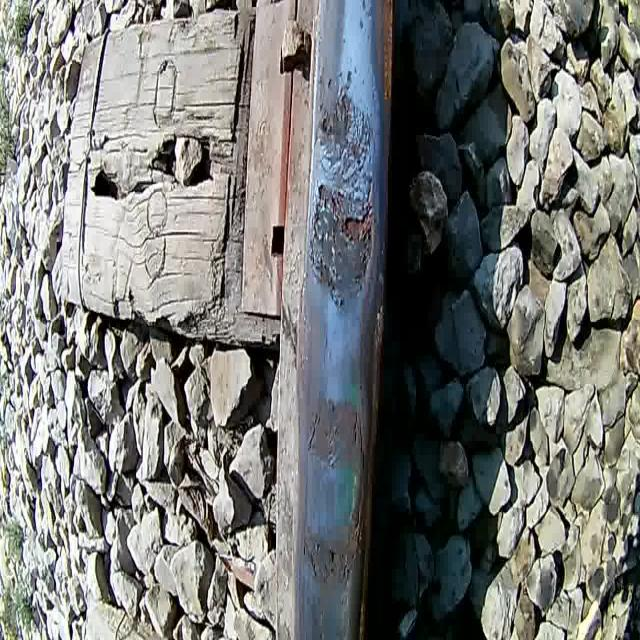Cracks: (338, 398, 367, 592), (334, 100, 375, 189), (305, 404, 324, 453)
Spallings: (311, 173, 375, 312), (303, 534, 339, 582)
Squats: (302, 62, 378, 315), (372, 0, 400, 226), (304, 389, 368, 481), (352, 483, 380, 639), (300, 521, 360, 590), (365, 290, 387, 462)
